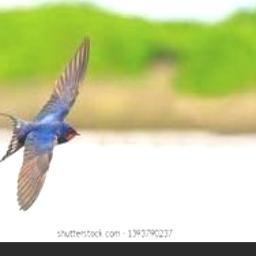Swallow: (0, 33, 90, 211)
